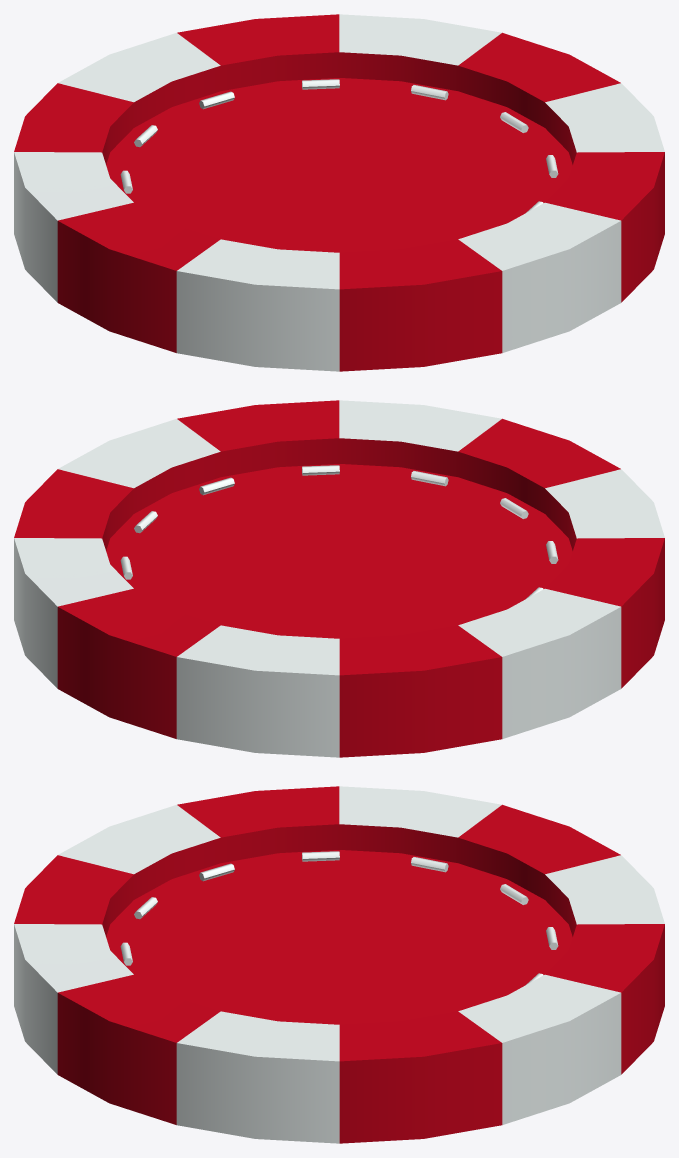
The model's file is Ticket.fbx.
The picture shows the model from 3 angles, top to bottom: view 1: azimuth 30°, elevation 25°; view 2: azimuth 150°, elevation 25°; view 3: azimuth 270°, elevation 25°; orthographic projection.
Visible parts, largest first — view 1: Ticket; view 2: Ticket; view 3: Ticket.
Boxes of the visible parts, x1,y1,x2,y2 form: Ticket: (14, 14, 664, 371); Ticket: (14, 400, 664, 757); Ticket: (14, 786, 664, 1143).
Bounding box in the file's own units: 182 × 25.3 × 182.
